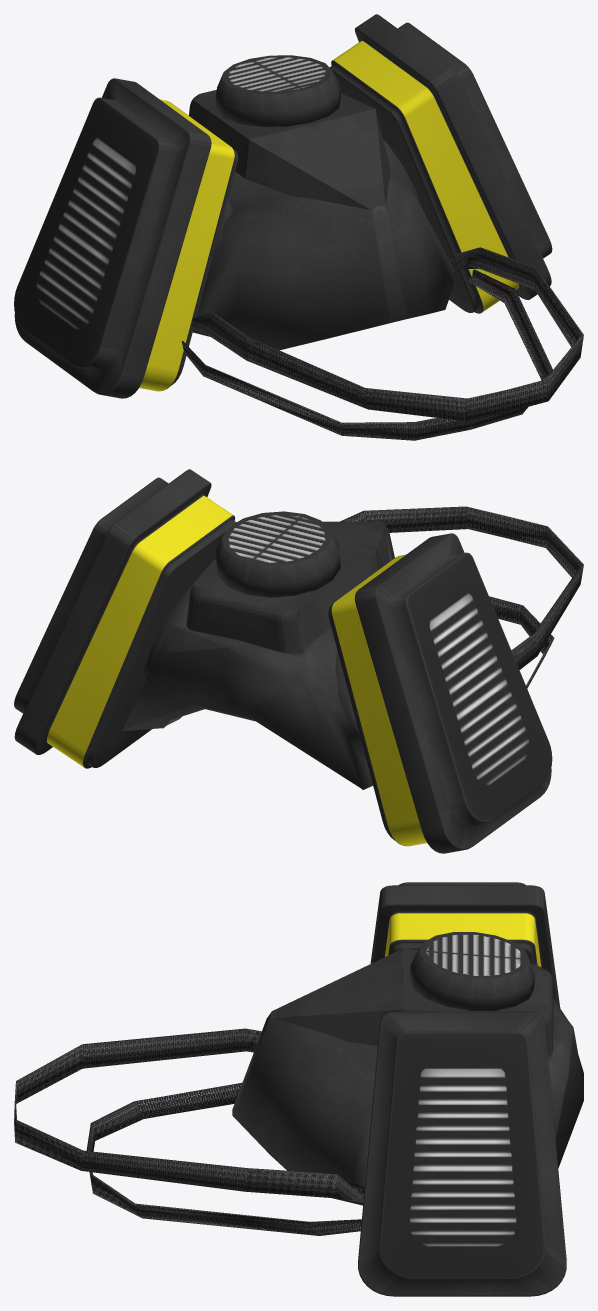
Rendered from HalfMaskRespiratorII_Ground.fbx.
The picture shows the model from 3 angles, top to bottom: view 1: azimuth 30°, elevation 25°; view 2: azimuth 150°, elevation 25°; view 3: azimuth 270°, elevation 25°; orthographic projection.
Visible parts, largest first — view 1: Half Mask Respirator; view 2: Half Mask Respirator; view 3: Half Mask Respirator.
Part boxes in pixels (x1,y1,x2,y2): Half Mask Respirator: (14, 14, 583, 440); Half Mask Respirator: (14, 469, 583, 853); Half Mask Respirator: (14, 882, 583, 1296).
Bounding box in the file's own units: 11.88 × 6.18 × 12.52.
